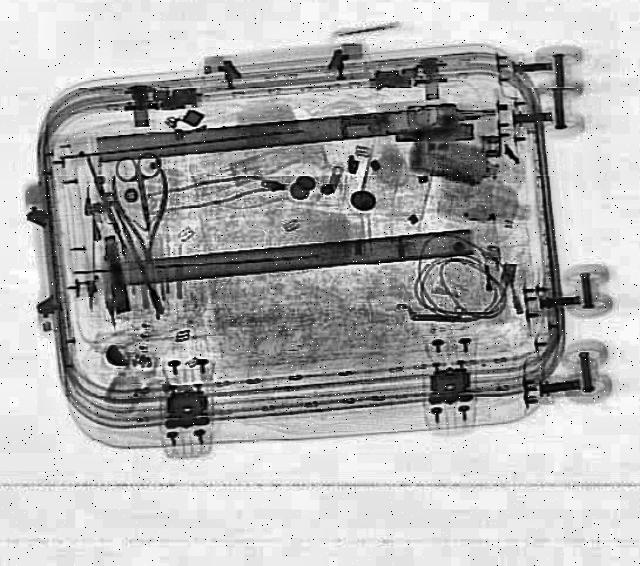Pliers: (107, 172, 177, 270)
Scissors: (111, 154, 169, 238)
